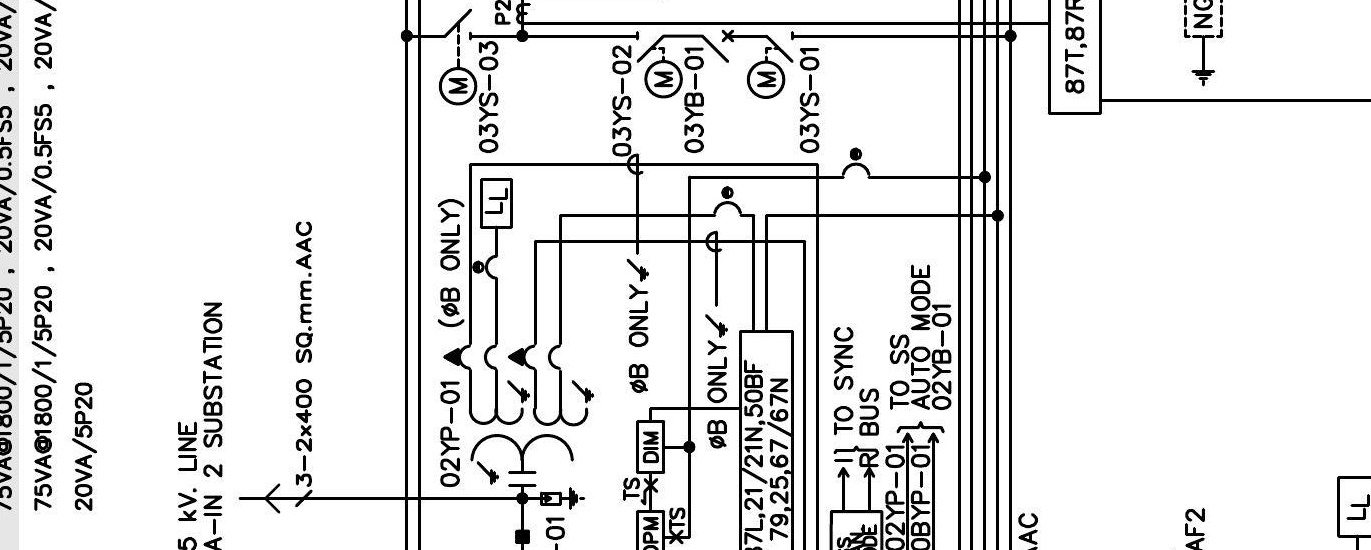115_1way_ds_w_motor: (437, 8, 478, 107), (635, 31, 684, 100), (746, 31, 794, 100)
115_breaker: (701, 29, 734, 64)
115_cvt_1p: (442, 342, 595, 488)
115_la: (540, 487, 586, 511)
DIM: (636, 420, 665, 474)
LL: (480, 178, 513, 229)
